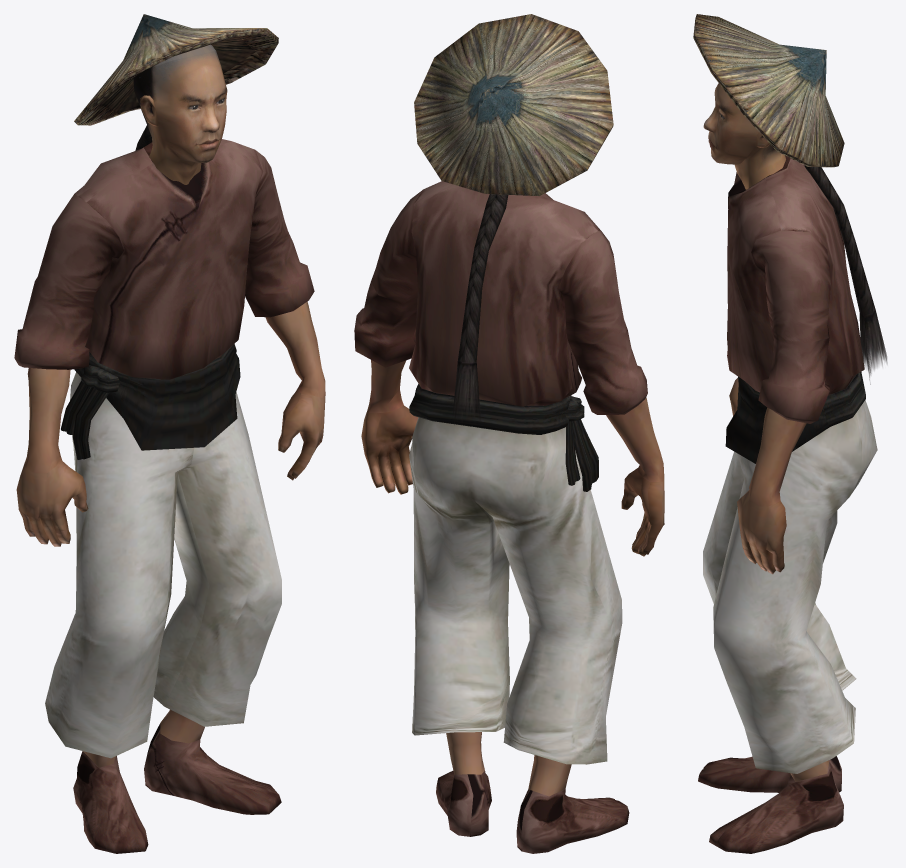
3 views of the same model, side by side, from view 1: azimuth 30°, elevation 25°; view 2: azimuth 150°, elevation 25°; view 3: azimuth 270°, elevation 25° (orthographic). The views are drawn at different scales.
Parts seen in each view (by area): view 1: om_cn_43; view 2: om_cn_43; view 3: om_cn_43.
Part boxes in pixels (left/top/right/bottom): om_cn_43: left=14, top=14, right=325, bottom=853; om_cn_43: left=354, top=14, right=664, bottom=853; om_cn_43: left=693, top=14, right=887, bottom=853.
Bounding box in the file's own units: 0.8688 × 2.16 × 0.4917.
8 materials, 8 textured.
